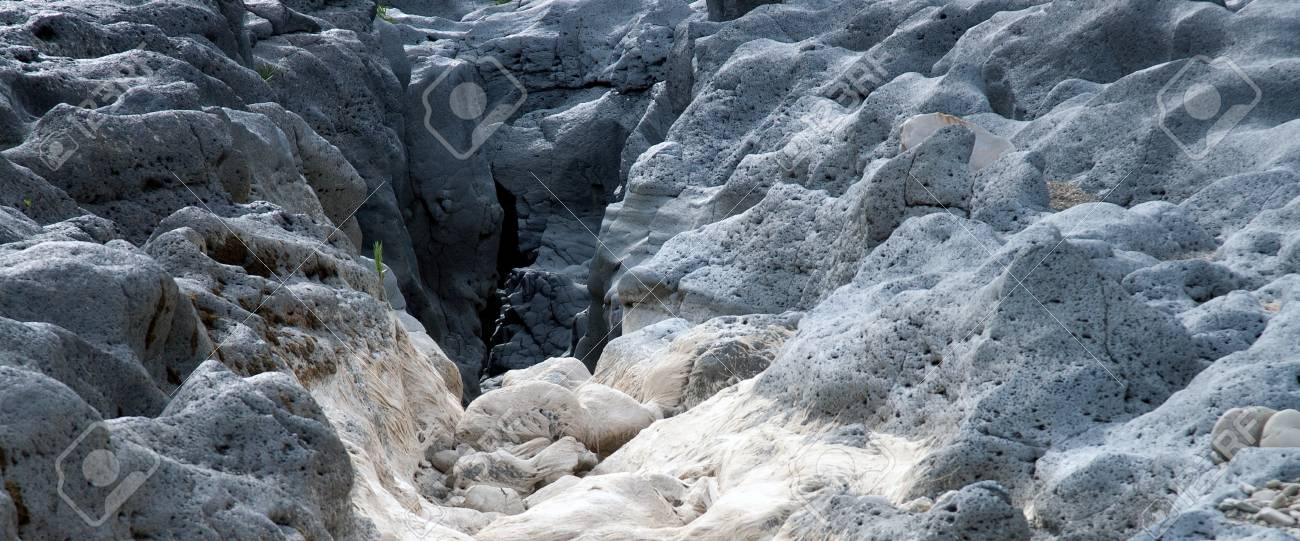volcanic_rock: (692, 43, 1300, 474), (15, 103, 389, 417), (786, 223, 1169, 477), (25, 349, 349, 541)
